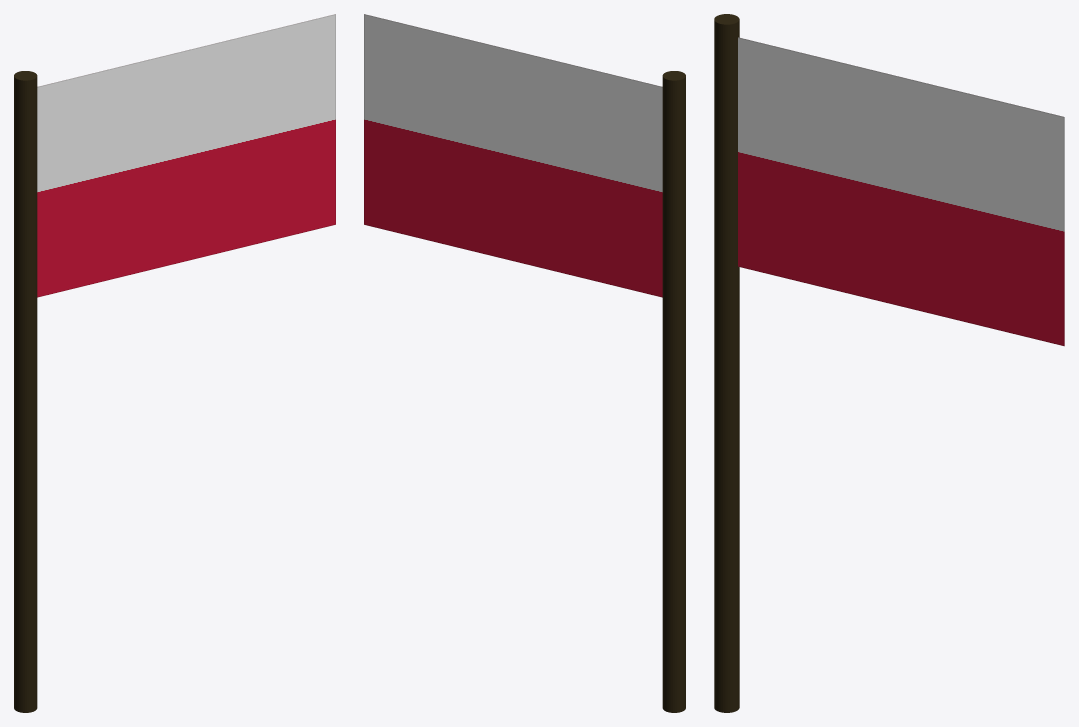
File: Poland.glb
The picture shows the model from 3 angles, left to right: view 1: azimuth 30°, elevation 25°; view 2: azimuth 150°, elevation 25°; view 3: azimuth 330°, elevation 25°; orthographic projection. The views are drawn at different scales.
Visible parts, largest first — view 1: Plane, Cylinder; view 2: Plane, Cylinder; view 3: Plane, Cylinder.
Boxes of the visible parts, x1=… form: Plane: x1=37, y1=14, x2=335, y2=297; Cylinder: x1=14, y1=71, x2=37, y2=712; Plane: x1=364, y1=14, x2=662, y2=297; Cylinder: x1=662, y1=71, x2=685, y2=712; Plane: x1=738, y1=37, x2=1064, y2=346; Cylinder: x1=714, y1=14, x2=739, y2=712.
Size of the model in its own units: 3.18 by 6 by 0.2.
Materials: 2 (1 with a texture image).
